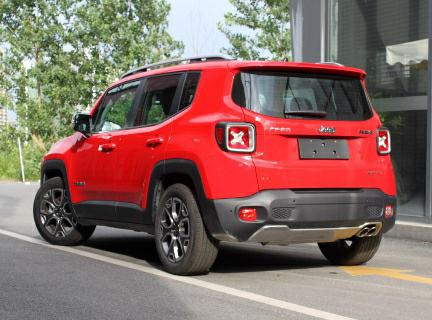Jeep-自由侠: (25, 52, 406, 282)
